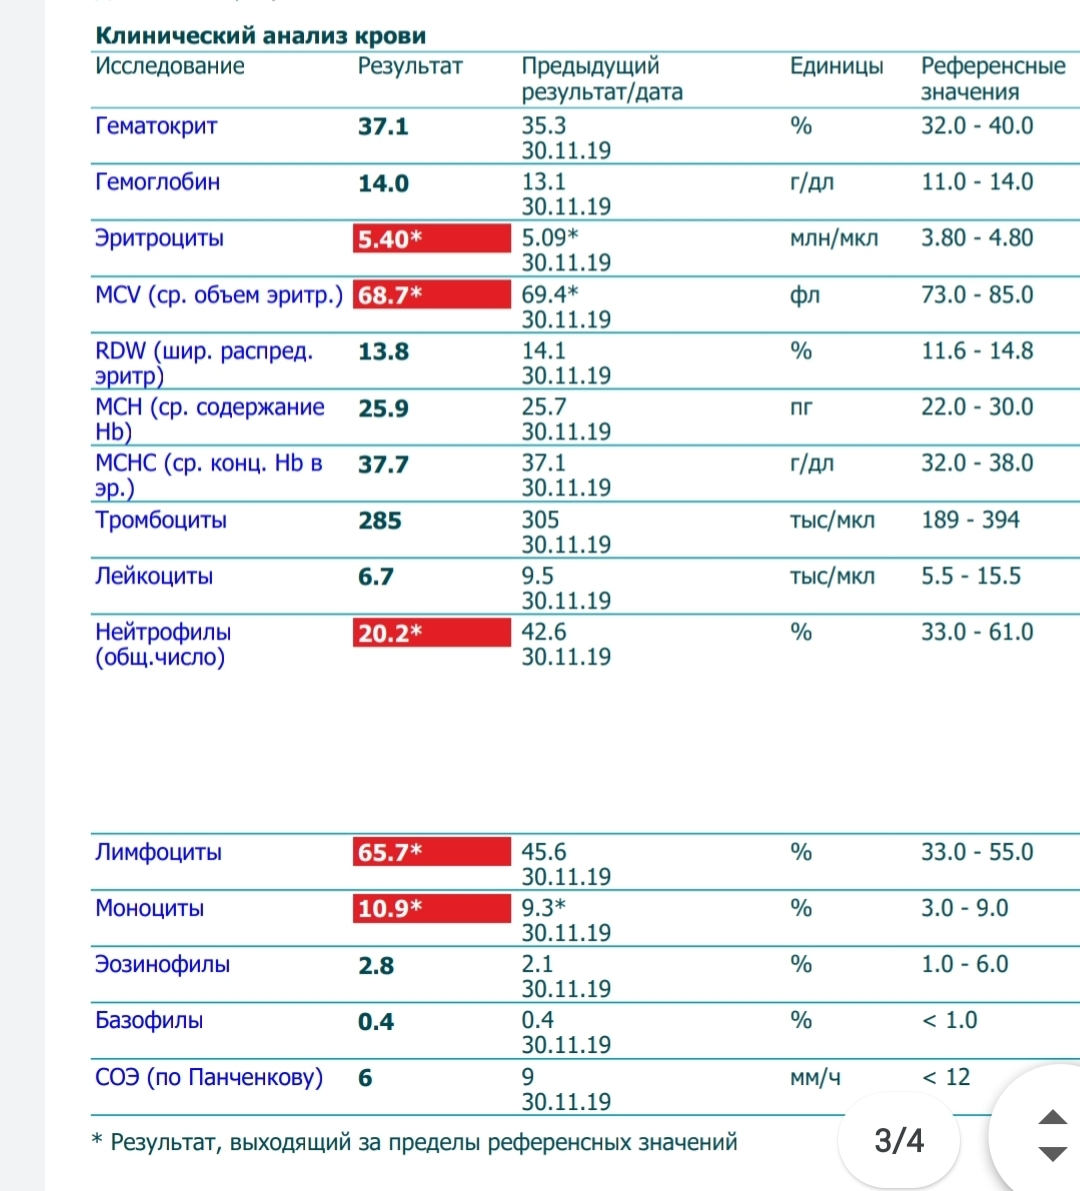column: (94, 51, 343, 1115), (520, 51, 684, 1115), (920, 51, 1067, 1115), (357, 51, 464, 1115), (790, 51, 884, 1115)
